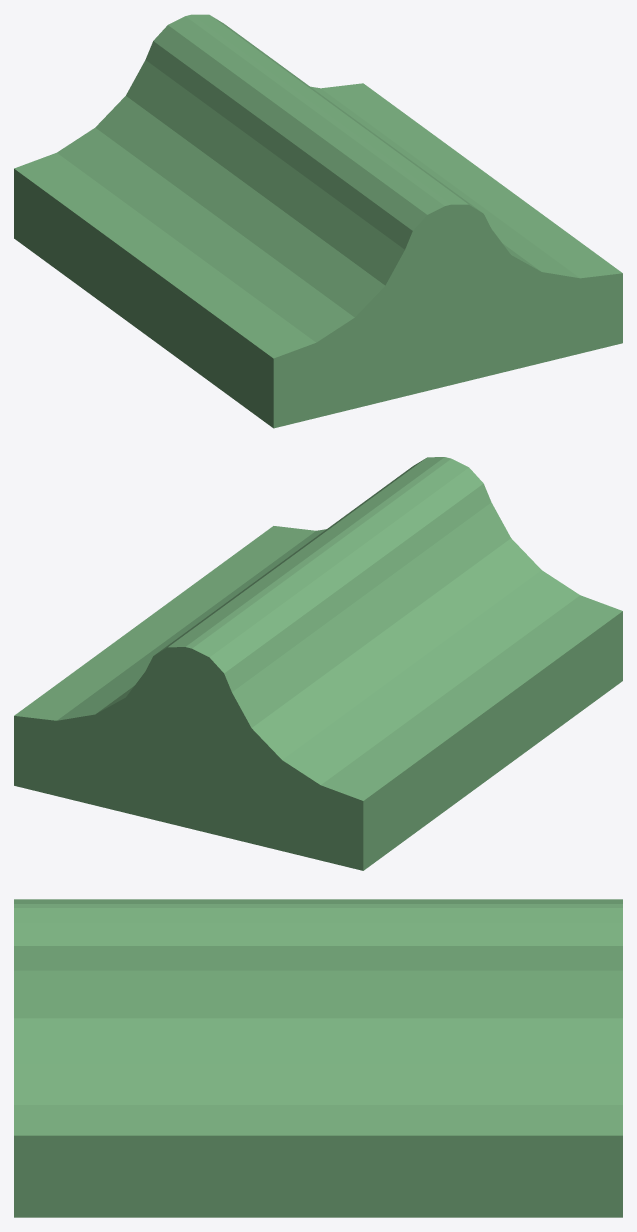
Rendered from VIS_ElasticHinge.dae.
The picture shows the model from 3 angles, top to bottom: view 1: azimuth 30°, elevation 25°; view 2: azimuth 150°, elevation 25°; view 3: azimuth 270°, elevation 25°; orthographic projection. The views are drawn at different scales.
Visible parts, largest first — view 1: VIS_ElasticHinge; view 2: VIS_ElasticHinge; view 3: VIS_ElasticHinge.
Part boxes in pixels (x1,y1,x2,y2): VIS_ElasticHinge: (14, 14, 622, 428); VIS_ElasticHinge: (14, 457, 622, 870); VIS_ElasticHinge: (14, 899, 622, 1217).
Size of the model in its own units: 0.0178 by 0.0229 by 0.00879.
